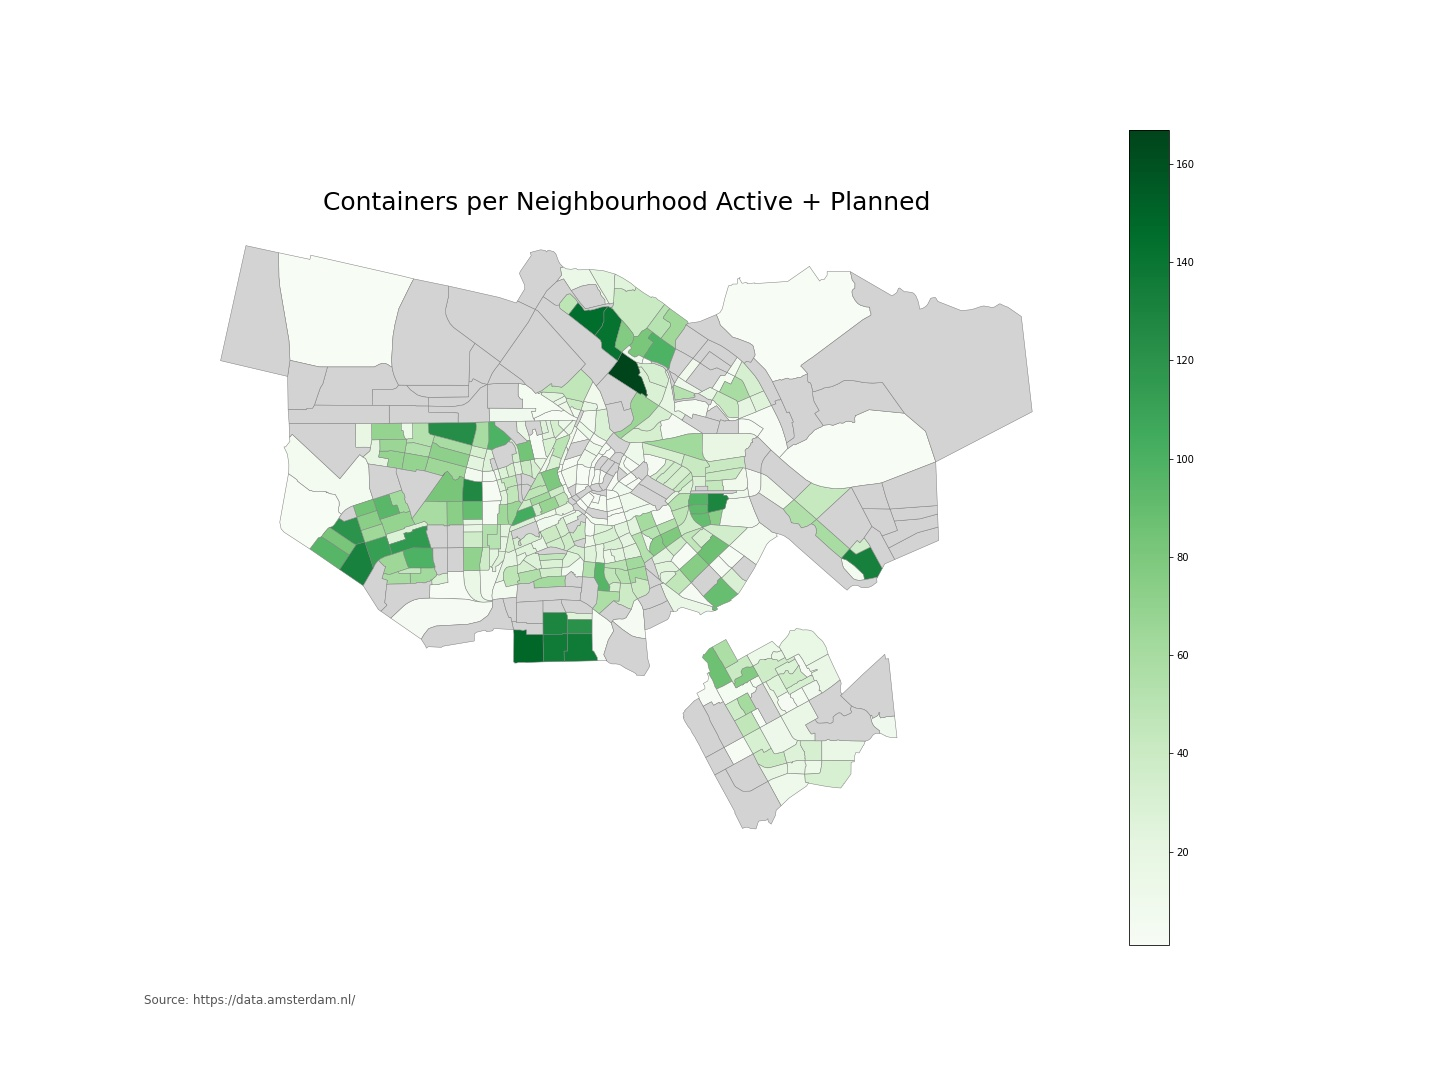

Layout of this report page (visuals, bound fields, positions):
{"tool":"tableau","page":{"name":"Home","canvas":[1000,1000],"units":"permille","ordinal":0},"visuals":[{"type":"currpage","title":"Dashboard Header","box":[4.6,8.8,169,53.6]},{"type":"worksheet","title":"Dashboard Header","mark":"Automatic","box":[173.6,8.8,821.8,103.7]},{"type":"worksheet","title":"Density Map","mark":"Automatic","box":[4.6,112.5,990.9,878.8]}]}

Visuals, with their boxes on the dashboard's canvas, which has no fixed pixel size, in thousandths of its width and height (x1, y1, x2, y2). These are canvas units, not pixel positions in the 1440x1080 screenshot, which may show the page scaled, cropped or inside an application window:
"Dashboard Header" currpage: [left=5, top=9, right=174, bottom=62]
"Dashboard Header" worksheet: [left=174, top=9, right=995, bottom=112]
"Density Map" worksheet: [left=5, top=112, right=996, bottom=991]
